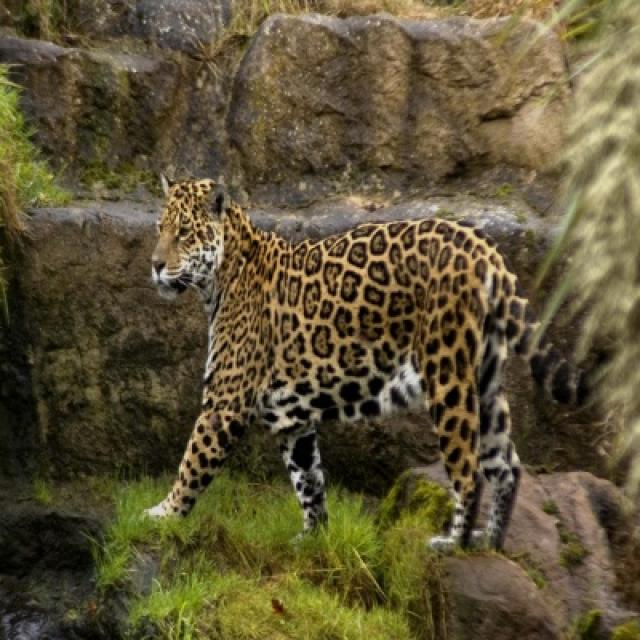Jaguar: (144, 179, 536, 555)
